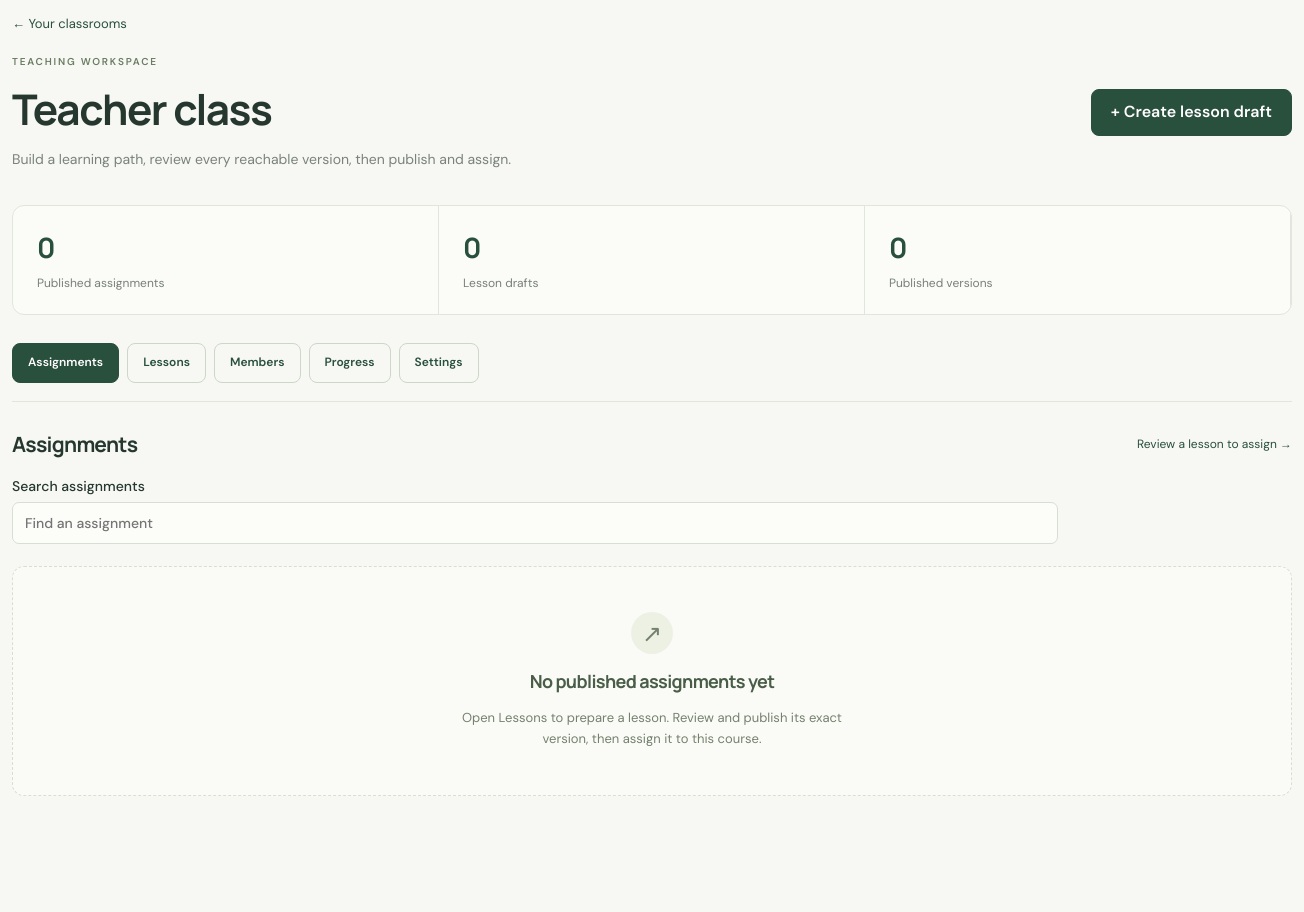
Test case: shows the permanent code only in teacher settings and preserves it when enrollment is paused
What coordinates should you click on to do the following:
click the button "Settings"
I would click on:
 (439, 363)
Its box is x1=399 y1=343 x2=479 y2=383.
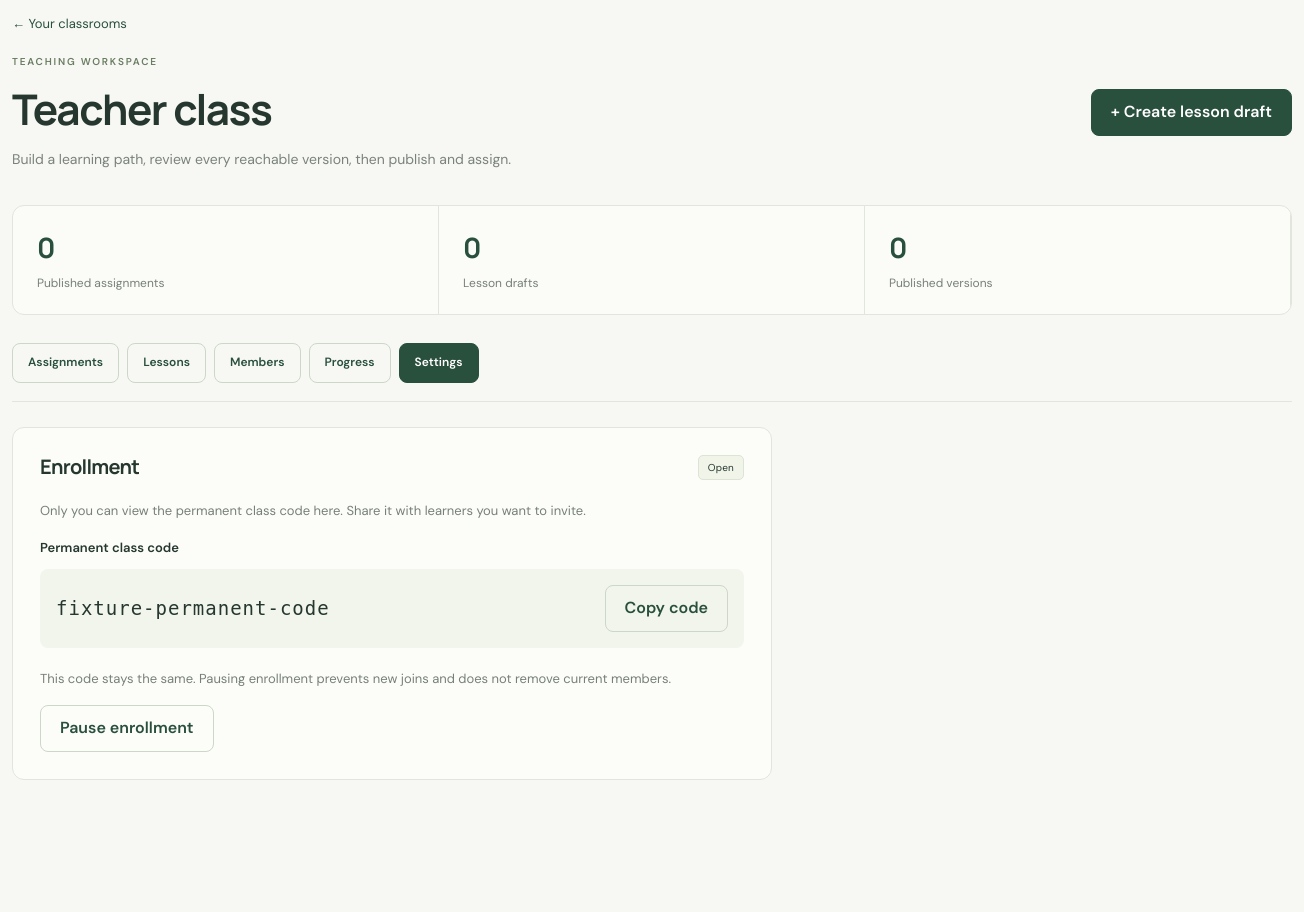
Result: the text "fixture-permanent-code" is shown at x1=56 y1=597 x2=330 y2=619
What coordinates should you click on to do the following:
click the button "Pause enrollment"
I would click on:
 (127, 728)
Its box is x1=40 y1=705 x2=214 y2=752.
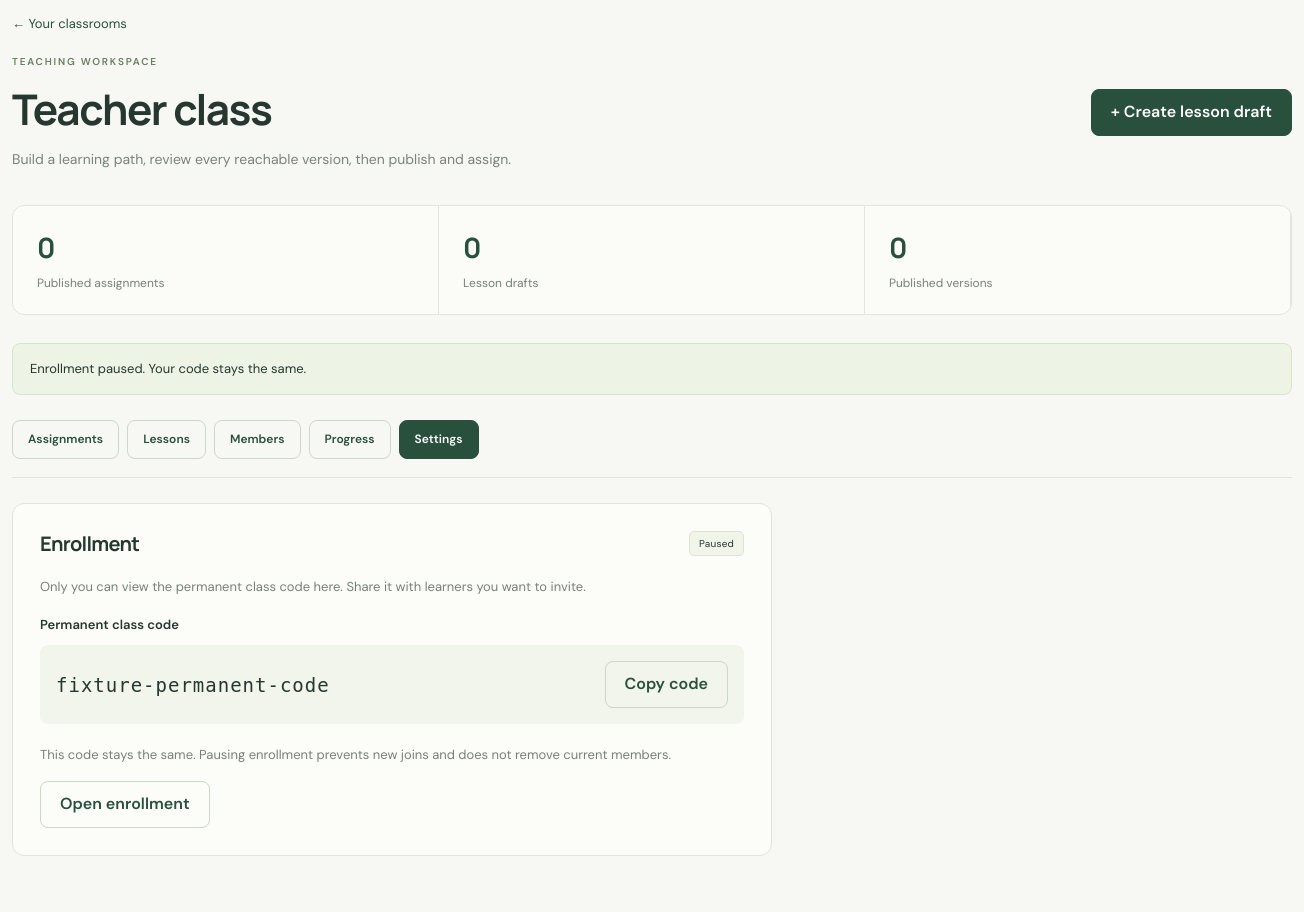
Result: the text "fixture-permanent-code" is shown at x1=56 y1=674 x2=330 y2=696
Result: the button "Open enrollment" is shown
What coordinates should you click on to do the following:
click the button "Open enrollment"
I would click on:
 (125, 805)
Its box is x1=40 y1=781 x2=210 y2=828.
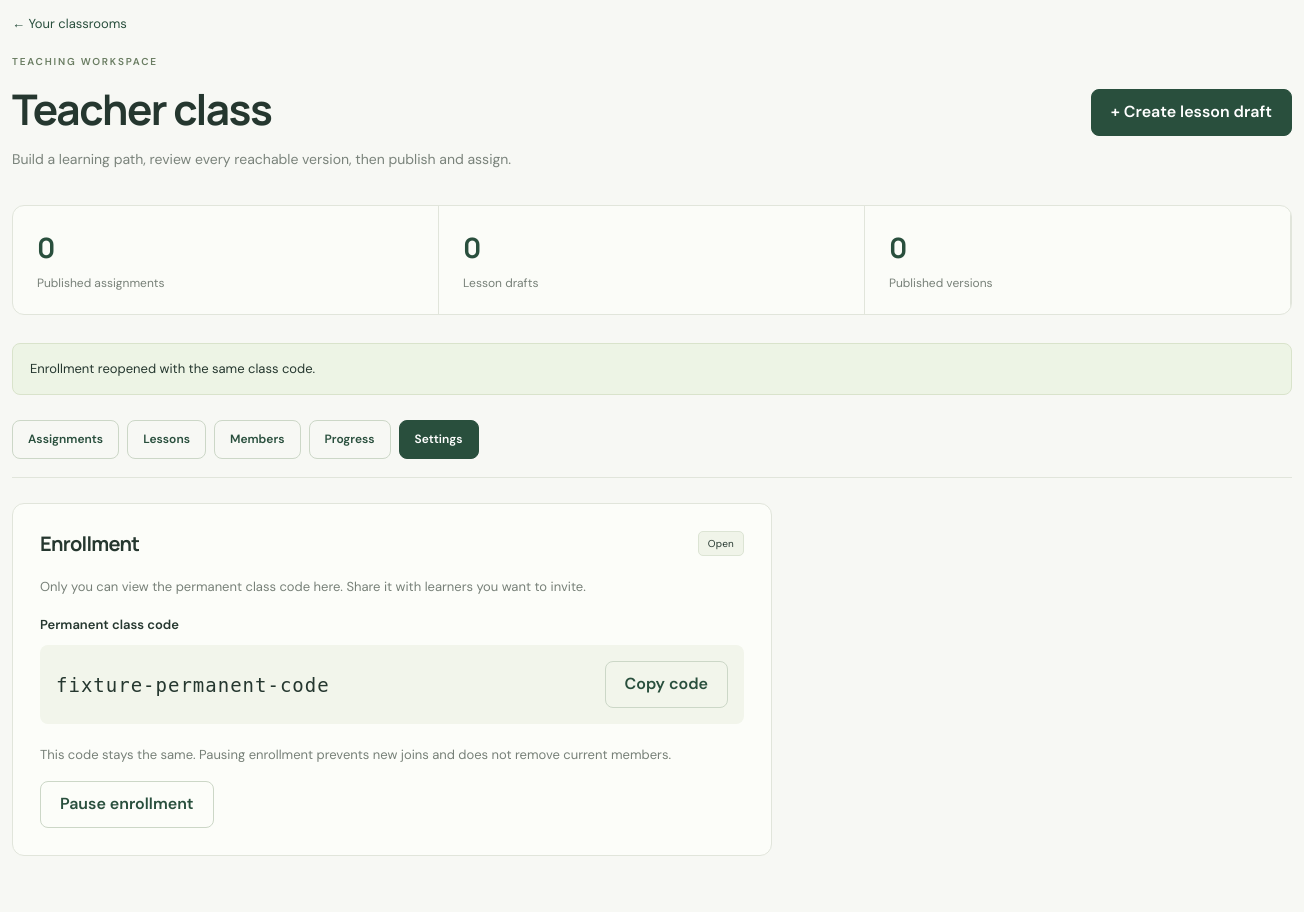
Result: the text "fixture-permanent-code" is shown at x1=56 y1=674 x2=330 y2=696
Result: the button "Pause enrollment" is shown at x1=40 y1=781 x2=214 y2=828
